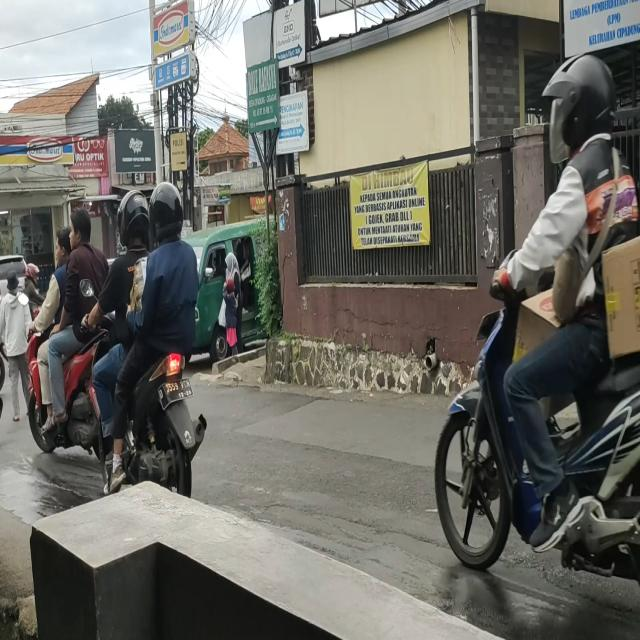helmet: (552, 60, 618, 146), (118, 194, 149, 251), (152, 190, 184, 245)
no-helmet: (70, 208, 92, 255), (57, 229, 73, 265)
